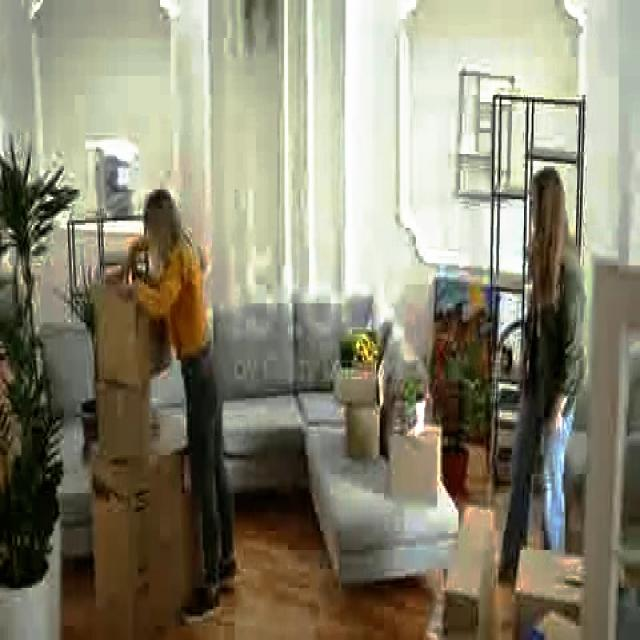Box: (96, 465, 179, 621), (100, 296, 167, 377), (453, 503, 496, 628), (334, 377, 386, 464), (514, 550, 566, 635), (92, 386, 151, 451), (383, 441, 436, 507)
